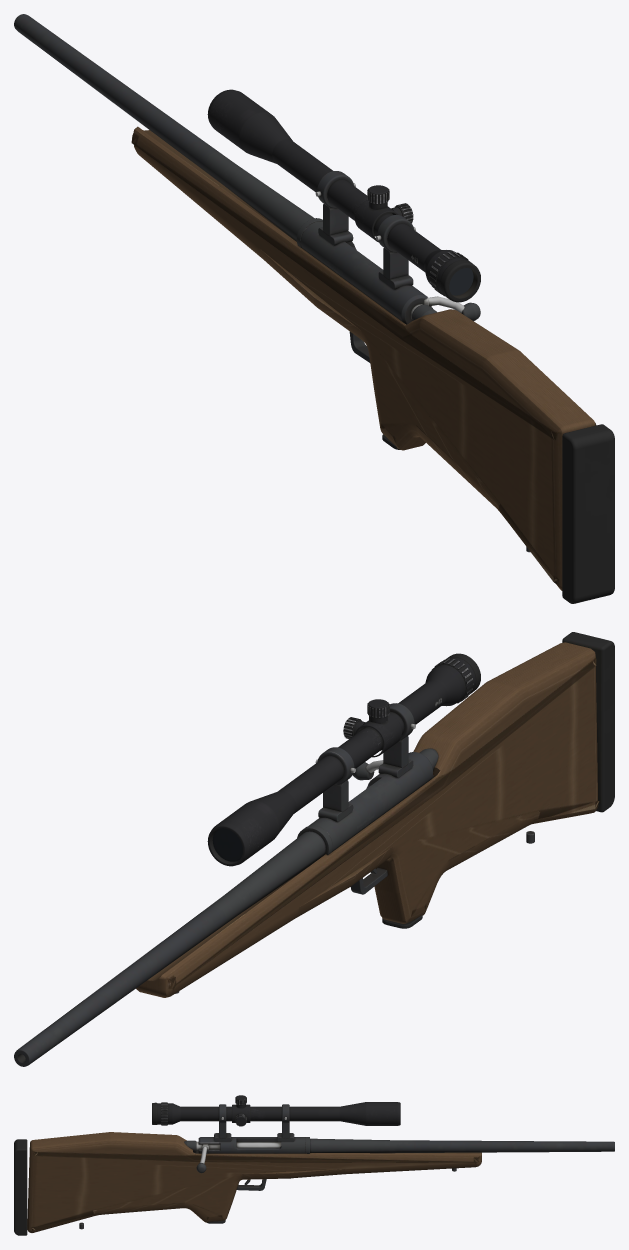
File: rivington.glb
3 views of the same model, one above another, from view 1: azimuth 30°, elevation 25°; view 2: azimuth 150°, elevation 25°; view 3: azimuth 270°, elevation 25° (orthographic). The views are drawn at different scales.
Parts seen in each view (by area): view 1: body, charging; view 2: body, charging; view 3: body, charging.
Part boxes in pixels (x1,y1,x2,y2): body: (14, 14, 614, 603); charging: (410, 296, 480, 320); body: (14, 632, 614, 1066); charging: (352, 748, 438, 780); body: (14, 1095, 614, 1235); charging: (184, 1140, 281, 1173).
Bounding box in the file's own units: 0.0883 × 0.257 × 1.05.
2 materials, 1 textured.
